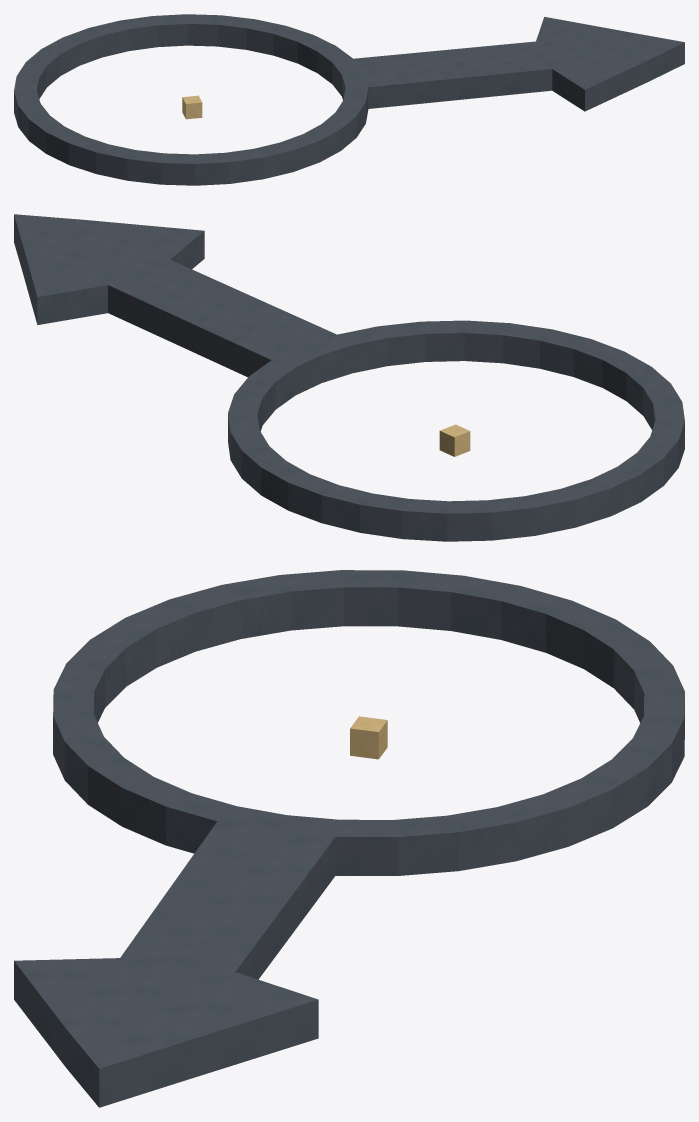
Rendered from Flecha.glb.
3 renders of one model, top to bottom at view 1: azimuth 30°, elevation 25°; view 2: azimuth 150°, elevation 25°; view 3: azimuth 270°, elevation 25°, orthographic. The views are drawn at different scales.
Parts seen in each view (by area): view 1: prim0, prim1; view 2: prim0, prim1; view 3: prim0, prim1.
Part boxes in pixels (box(x1,y1,x2,y2)): prim0: box(14, 14, 684, 185); prim1: box(182, 95, 202, 119); prim0: box(14, 214, 684, 541); prim1: box(439, 424, 470, 456); prim0: box(14, 570, 684, 1107); prim1: box(350, 716, 387, 759).
Size of the model in its own units: 19.6 by 0.8607 by 11.14.
2 materials, 2 textured.
